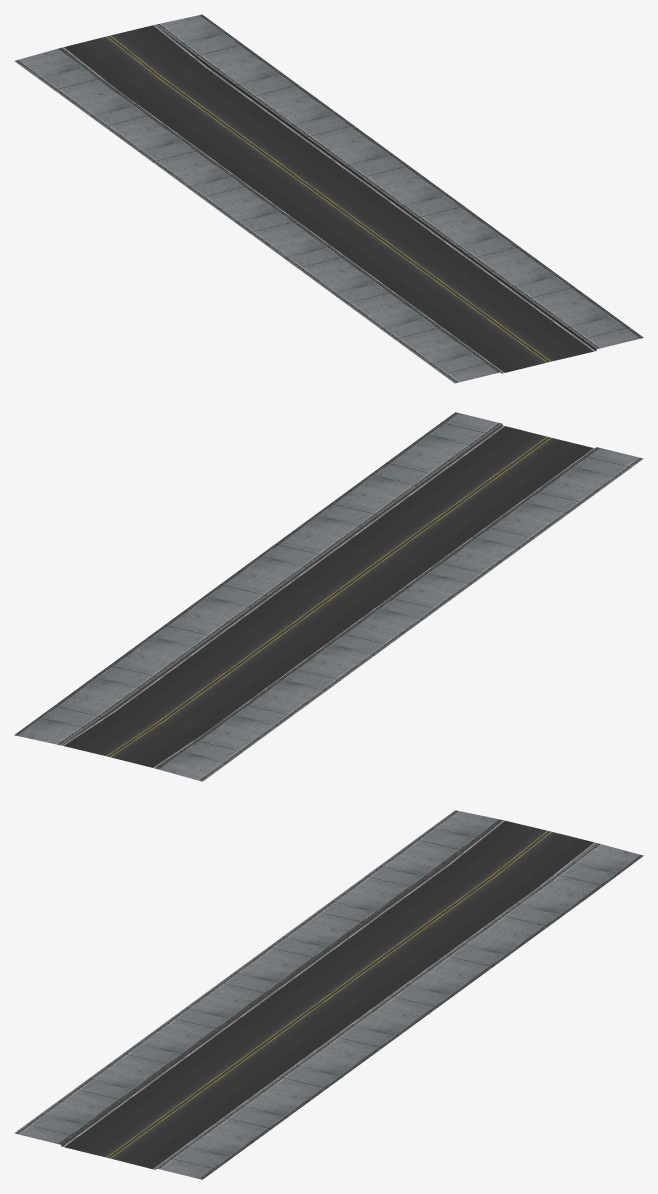
Rendered from laroakt1_30_las.obj.
3 renders of one model, top to bottom at view 1: azimuth 30°, elevation 25°; view 2: azimuth 150°, elevation 25°; view 3: azimuth 330°, elevation 25°, orthographic.
Visible parts, largest first — view 1: LAroakt1_30_LAs; view 2: LAroakt1_30_LAs; view 3: LAroakt1_30_LAs.
Part boxes in pixels (x1,y1,x2,y2): LAroakt1_30_LAs: [14, 14, 643, 383]; LAroakt1_30_LAs: [14, 412, 643, 781]; LAroakt1_30_LAs: [14, 810, 643, 1179].
Size of the model in its own units: 20.02 by 0.4001 by 81.
